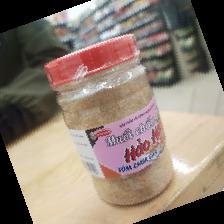Hao_hao: (43, 33, 177, 209)
